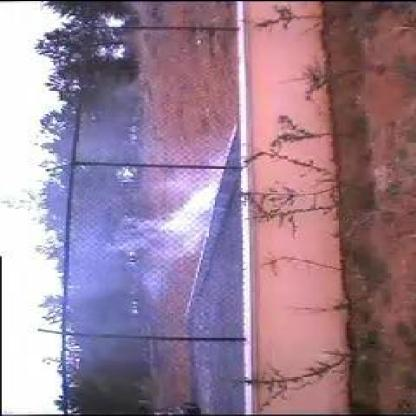-: (92, 153, 218, 304)
